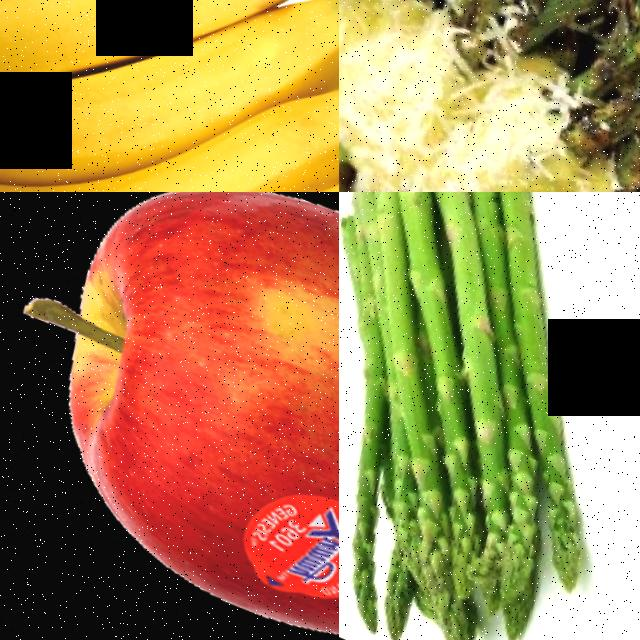apple: (0, 192, 339, 640)
asparagus: (462, 402, 575, 590), (507, 394, 612, 590), (339, 412, 417, 622), (434, 389, 528, 528), (400, 410, 495, 545)
banana: (0, 0, 339, 192)
